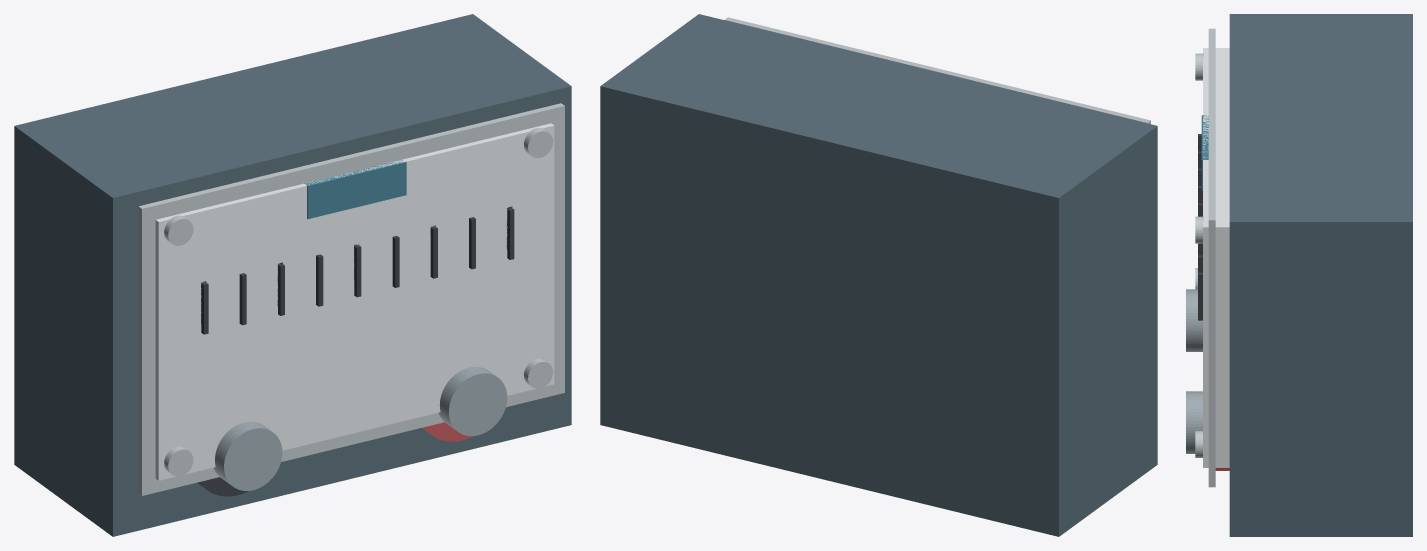
The model's file is voltmeter_lod0.glb.
3 views of the same model, side by side, from view 1: azimuth 30°, elevation 25°; view 2: azimuth 150°, elevation 25°; view 3: azimuth 270°, elevation 25° (orthographic). The views are drawn at different scales.
Parts seen in each view (by area): view 1: VOL_BODY_MAT_METAL_DARK, VOL_FACE_INSET_MAT_WHITE, VOL_FACE_BEZEL_MAT_STAINLESS, VOL_LABEL_MAT_POLYMER_BLUE, VOL_PORT_COM_MAT_METAL_BRUSHED, VOL_PORT_INPUT_MAT_METAL_BRUSHED, VOL_FACE_SCREW_2_MAT_STAINLESS, VOL_FACE_SCREW_0_MAT_STAINLESS, VOL_FACE_SCREW_1_MAT_STAINLESS, VOL_FACE_SCREW_3_MAT_STAINLESS; view 2: VOL_BODY_MAT_METAL_DARK, VOL_FACE_BEZEL_MAT_STAINLESS; view 3: VOL_BODY_MAT_METAL_DARK, VOL_FACE_MAT_WHITE, VOL_FACE_BEZEL_MAT_STAINLESS, VOL_FACE_INSET_MAT_WHITE, VOL_PORT_COM_MAT_METAL_BRUSHED, VOL_PORT_INPUT_MAT_METAL_BRUSHED, VOL_LABEL_MAT_POLYMER_BLUE.
Part boxes in pixels (x1,y1,x2,y2): VOL_BODY_MAT_METAL_DARK: [14, 14, 571, 536]; VOL_FACE_INSET_MAT_WHITE: [155, 123, 554, 480]; VOL_FACE_BEZEL_MAT_STAINLESS: [138, 103, 564, 495]; VOL_LABEL_MAT_POLYMER_BLUE: [304, 160, 406, 218]; VOL_PORT_COM_MAT_METAL_BRUSHED: [214, 421, 282, 490]; VOL_PORT_INPUT_MAT_METAL_BRUSHED: [438, 366, 507, 436]; VOL_FACE_SCREW_2_MAT_STAINLESS: [164, 215, 193, 245]; VOL_FACE_SCREW_0_MAT_STAINLESS: [164, 446, 193, 476]; VOL_FACE_SCREW_1_MAT_STAINLESS: [524, 358, 553, 388]; VOL_FACE_SCREW_3_MAT_STAINLESS: [524, 127, 553, 158]; VOL_BODY_MAT_METAL_DARK: [600, 14, 1157, 536]; VOL_FACE_BEZEL_MAT_STAINLESS: [724, 17, 1150, 124]; VOL_BODY_MAT_METAL_DARK: [1229, 14, 1412, 536]; VOL_FACE_MAT_WHITE: [1215, 48, 1229, 467]; VOL_FACE_BEZEL_MAT_STAINLESS: [1208, 28, 1215, 487]; VOL_FACE_INSET_MAT_WHITE: [1203, 48, 1208, 467]; VOL_PORT_COM_MAT_METAL_BRUSHED: [1186, 289, 1202, 351]; VOL_PORT_INPUT_MAT_METAL_BRUSHED: [1186, 391, 1202, 453]; VOL_LABEL_MAT_POLYMER_BLUE: [1201, 115, 1208, 190].
Size of the model in its own units: 1.02 by 0.74 by 0.47.
